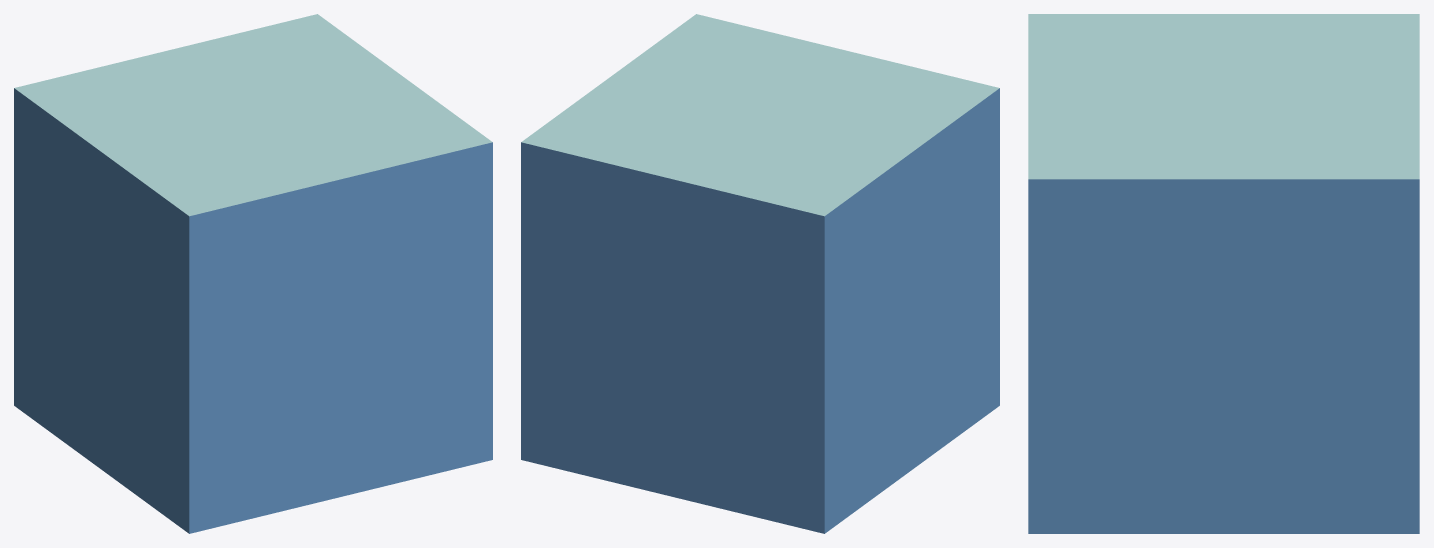
File: Model_Datablock.fbx
3 renders of one model, left to right at view 1: azimuth 30°, elevation 25°; view 2: azimuth 150°, elevation 25°; view 3: azimuth 270°, elevation 25°, orthographic. The views are drawn at different scales.
Parts seen in each view (by area): view 1: Datablock_outside.002; view 2: Datablock_outside.002; view 3: Datablock_outside.002.
Part boxes in pixels (bbox=[...]): Datablock_outside.002: bbox=[14, 14, 492, 533]; Datablock_outside.002: bbox=[521, 14, 999, 533]; Datablock_outside.002: bbox=[1028, 14, 1419, 533].
Size of the model in its own units: 99.41 by 99.41 by 99.41.
